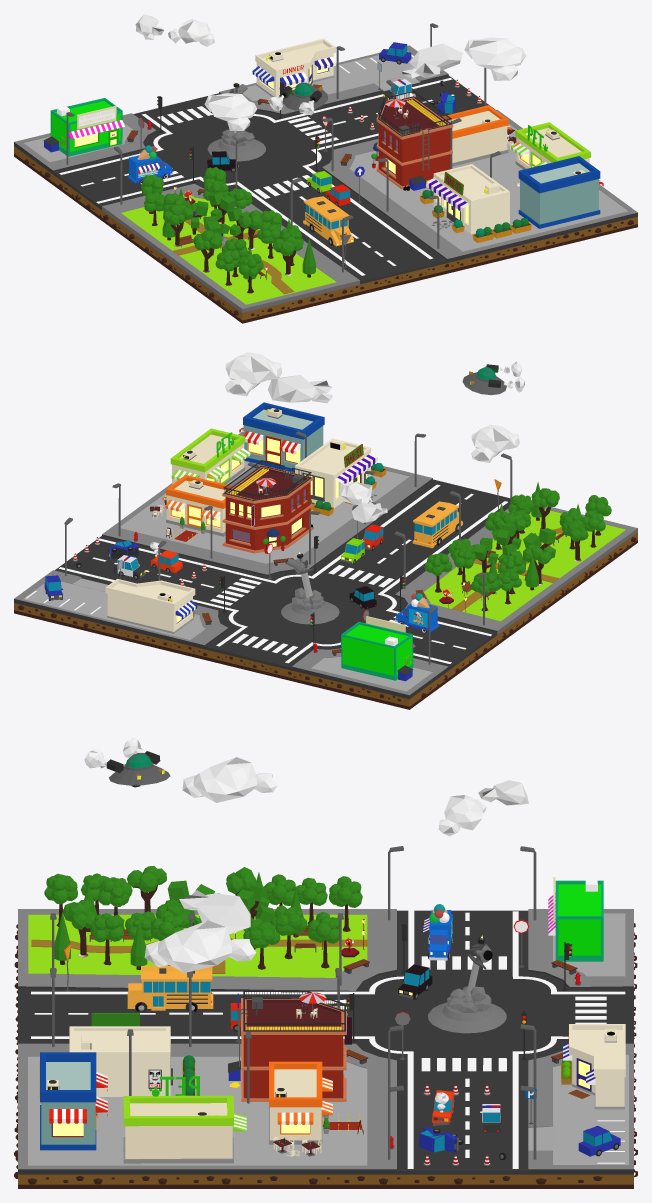
The model's file is gas-station.glb.
3 views of the same model, one above another, from view 1: azimuth 30°, elevation 25°; view 2: azimuth 150°, elevation 25°; view 3: azimuth 270°, elevation 25° (orthographic). The views are drawn at different scales.
Parts seen in each view (by area): view 1: TERRAIN, Plane.011, Cube, Cube.019, Cube.034, Plane.010, Cube.024, Plane.008, Plane.012, Icosphere.014, Cube.012, Icosphere.015 (+18 smaller); view 2: TERRAIN, Cube, Plane.011, Cube.034, Cube.024, Cube.019, Plane.010, Plane.012, Plane.008, Cylinder.009, Icosphere.014, Cube.012 (+14 smaller); view 3: TERRAIN, Plane.012, Cube, Cube.019, Plane.011, Plane.010, Cube.034, Plane.008, Cube.024, Icosphere.014, Cylinder.009, Cube.012 (+24 smaller).
Part boxes in pixels (x1=…): TERRAIN: x1=14, y1=45, x2=637, y2=323; Plane.011: x1=517, y1=156, x2=603, y2=228; Cube: x1=376, y1=96, x2=453, y2=189; Cube.019: x1=426, y1=164, x2=509, y2=234; Cube.034: x1=252, y1=38, x2=336, y2=101; Plane.010: x1=442, y1=105, x2=511, y2=166; Cube.024: x1=50, y1=98, x2=122, y2=156; Plane.008: x1=59, y1=78, x2=452, y2=275; Plane.012: x1=511, y1=122, x2=590, y2=169; Icosphere.014: x1=464, y1=37, x2=525, y2=80; Cube.012: x1=303, y1=196, x2=353, y2=246; Icosphere.015: x1=204, y1=93, x2=256, y2=130; TERRAIN: x1=14, y1=431, x2=637, y2=709; Cube: x1=222, y1=465, x2=313, y2=553; Plane.011: x1=239, y1=402, x2=324, y2=472; Cube.034: x1=105, y1=579, x2=197, y2=633; Cube.024: x1=341, y1=616, x2=413, y2=680; Cube.019: x1=295, y1=438, x2=377, y2=508; Plane.010: x1=162, y1=475, x2=232, y2=541; Plane.012: x1=170, y1=428, x2=250, y2=484; Plane.008: x1=59, y1=484, x2=507, y2=663; Cylinder.009: x1=281, y1=552, x2=339, y2=624; Icosphere.014: x1=225, y1=352, x2=282, y2=396; Cube.012: x1=412, y1=501, x2=462, y2=548; TERRAIN: x1=14, y1=909, x2=637, y2=1188; Plane.012: x1=123, y1=1076, x2=246, y2=1163; Cube: x1=241, y1=998, x2=352, y2=1101; Cube.019: x1=69, y1=1013, x2=172, y2=1096; Plane.011: x1=40, y1=1052, x2=107, y2=1150; Plane.010: x1=269, y1=1061, x2=361, y2=1144; Cube.034: x1=561, y1=1024, x2=625, y2=1109; Plane.008: x1=31, y1=910, x2=625, y2=1168; Cube.024: x1=553, y1=877, x2=603, y2=961; Icosphere.014: x1=144, y1=920, x2=256, y2=972; Cylinder.009: x1=428, y1=935, x2=506, y2=1033; Cube.012: x1=127, y1=966, x2=213, y2=1010.
Size of the model in its own units: 42.9 by 18.62 by 42.89.
21 materials, 18 textured.
